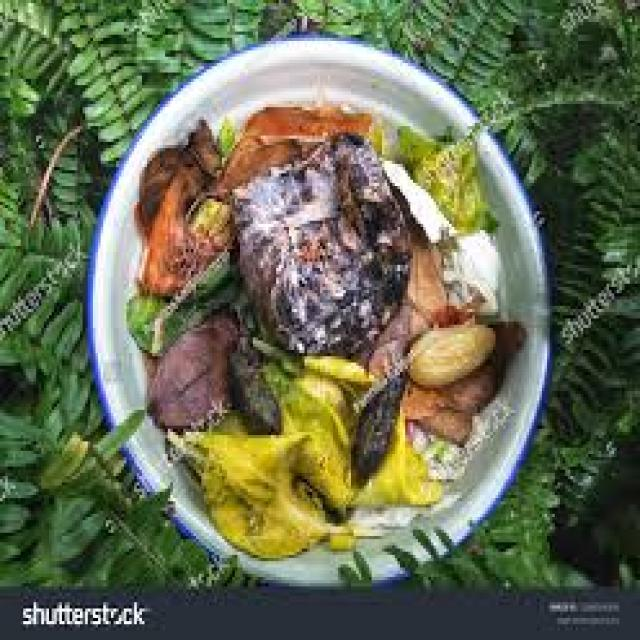organic waste: (222, 132, 408, 356), (178, 426, 343, 552), (134, 117, 235, 293), (261, 356, 361, 514), (212, 104, 369, 189), (144, 309, 238, 426), (398, 126, 490, 227), (147, 246, 235, 350), (359, 407, 436, 498), (248, 331, 377, 382), (405, 318, 493, 388), (379, 158, 444, 242), (224, 340, 278, 432), (392, 382, 470, 442), (441, 227, 493, 306), (405, 240, 447, 324), (121, 287, 176, 350), (436, 366, 501, 413), (346, 504, 444, 530), (410, 426, 464, 473), (464, 397, 511, 448), (488, 309, 524, 375), (359, 114, 382, 152), (225, 290, 248, 325), (328, 526, 356, 546), (214, 114, 232, 145)
